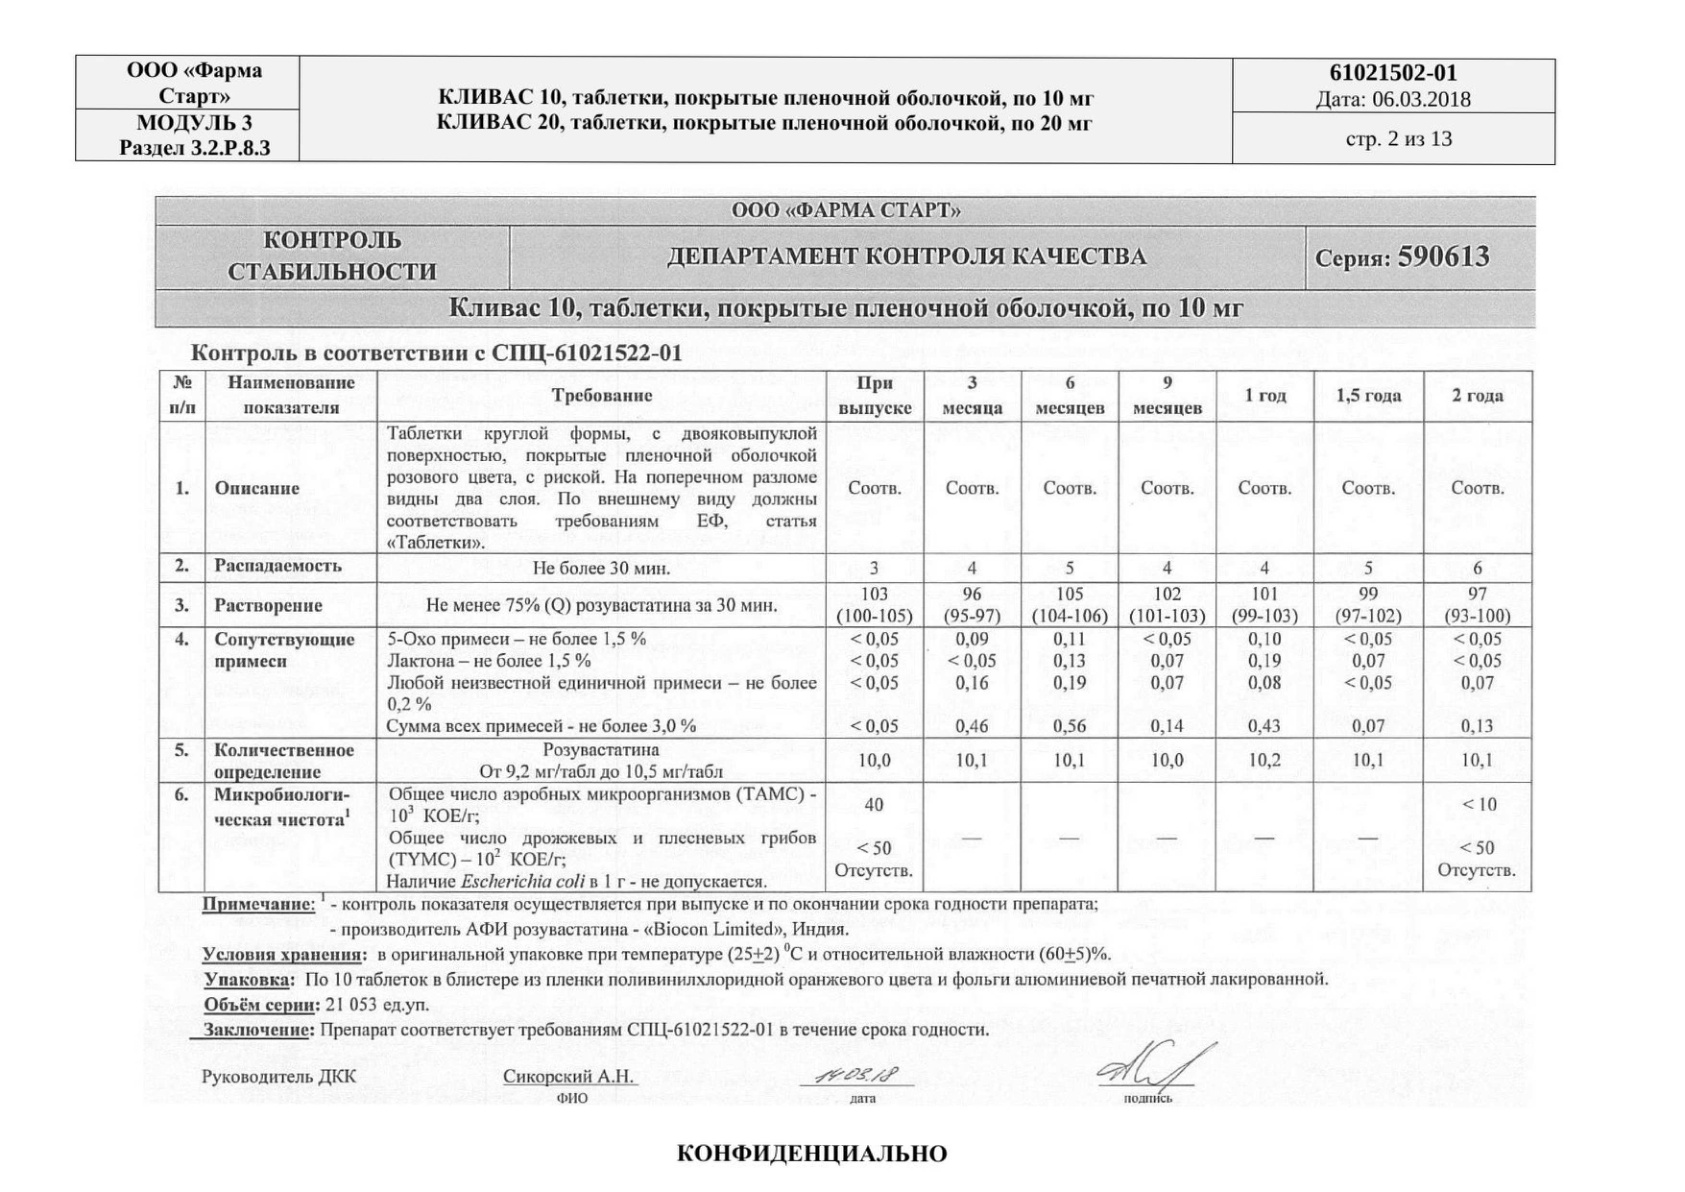full_lined: (156, 368, 1533, 893)
merged_cells: (154, 194, 1537, 328), (74, 53, 1556, 165)
